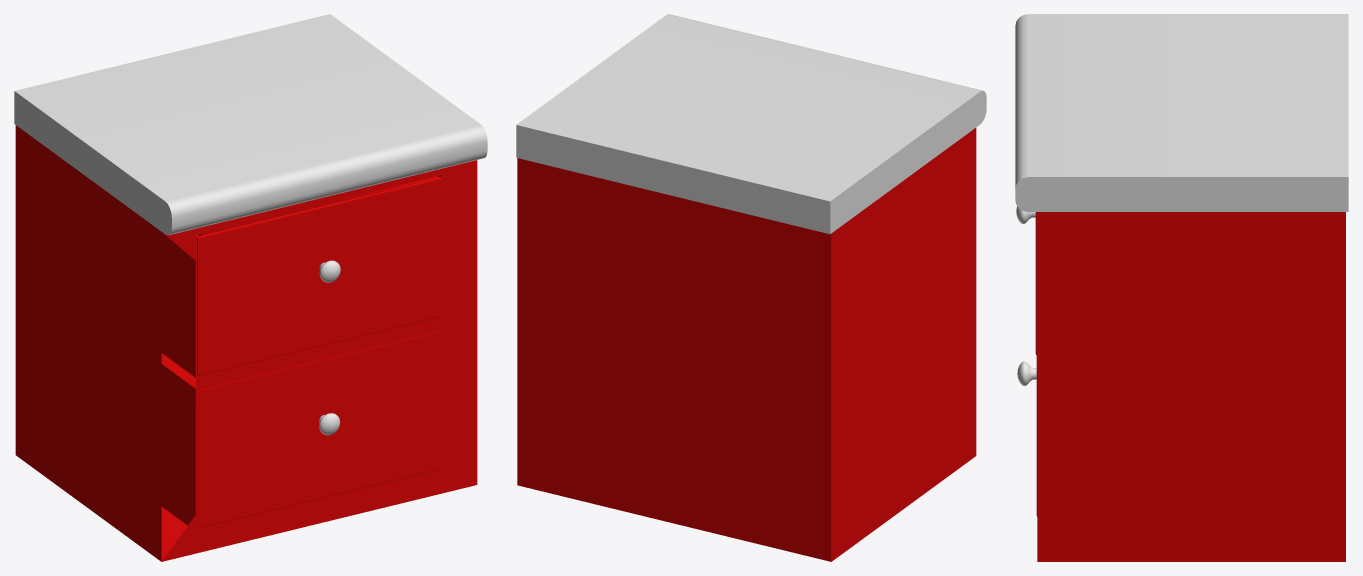
The model's file is bench_wDrawers_02.fbx.
3 views of the same model, side by side, from view 1: azimuth 30°, elevation 25°; view 2: azimuth 150°, elevation 25°; view 3: azimuth 270°, elevation 25° (orthographic). The views are drawn at different scales.
Visible parts, largest first — view 1: Bench_wDrawers_02; view 2: Bench_wDrawers_02; view 3: Bench_wDrawers_02.
Part boxes in pixels (x1,y1,x2,y2): Bench_wDrawers_02: (14,14,487,561); Bench_wDrawers_02: (516,14,986,561); Bench_wDrawers_02: (1015,14,1348,561).
Bounding box in the file's own units: 75 × 82.5 × 64.8.
